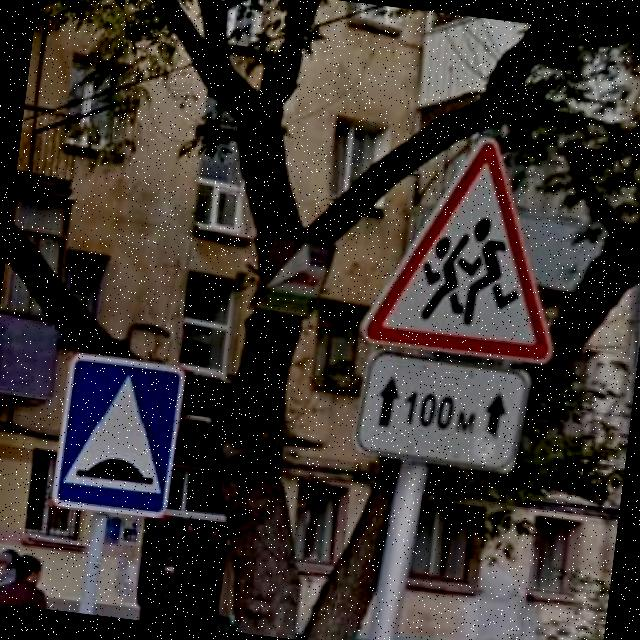Dzieci: (356, 125, 580, 371)
